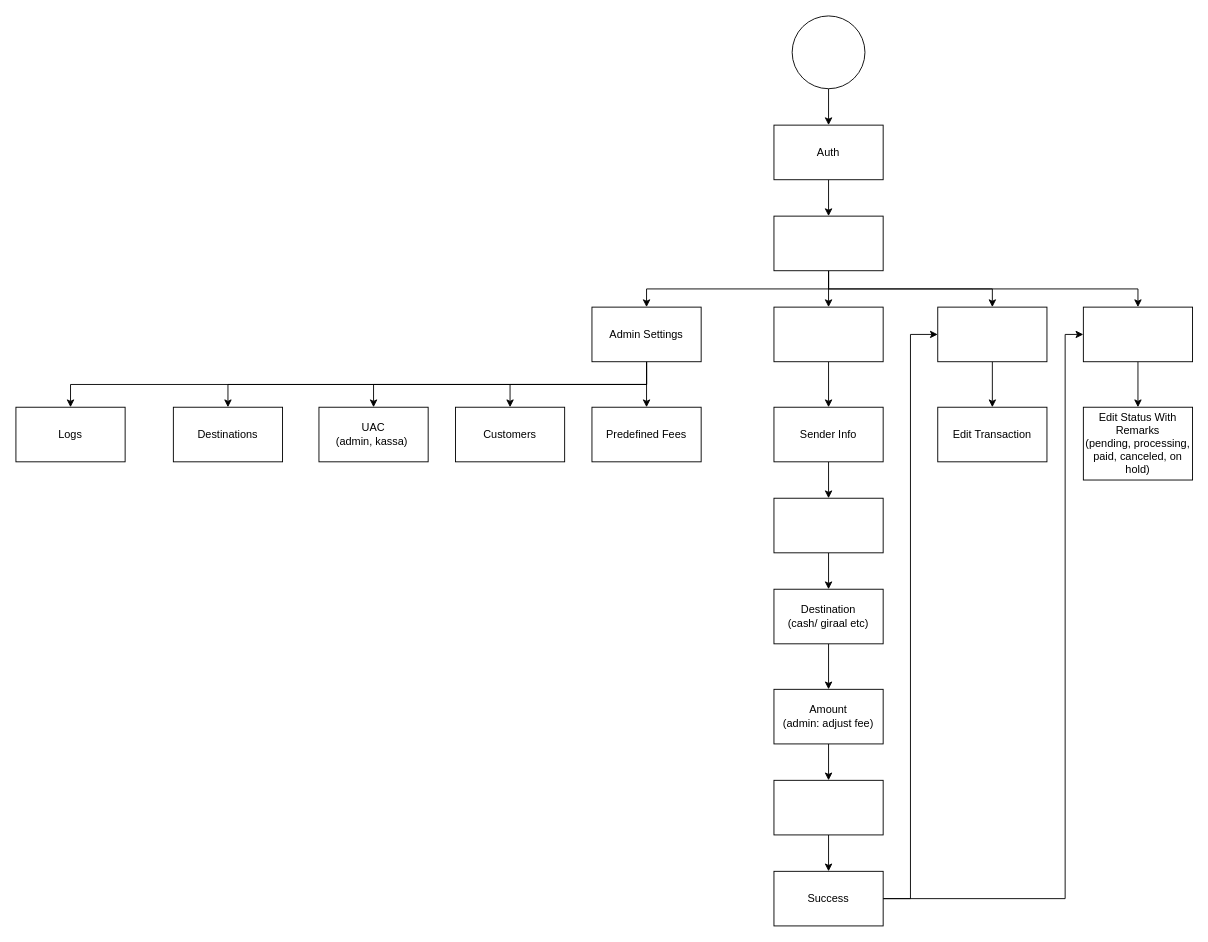
This 1208x942 diagram has some shape labels left out. The centre of each missing label's shape, as x and y in pixels:
Dashboard: the point at 828,243
New Transaction: the point at 828,334
Pending Transfers To Be Paid: the point at 1137,334
Reciever Info: the point at 828,525
Review Transaction: the point at 828,807
Transfer List: the point at 992,334
